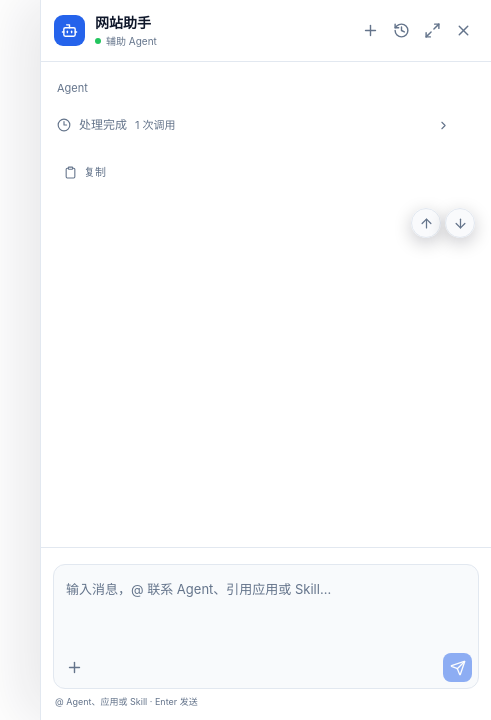
Scenario: AgentSidebar › 显示主 Agent 委派给子 Agent 的任务内容
The image size is (491, 720).
Click the button with aria-label "执行过程": x=103, y=124 [57, 103, 450, 147]
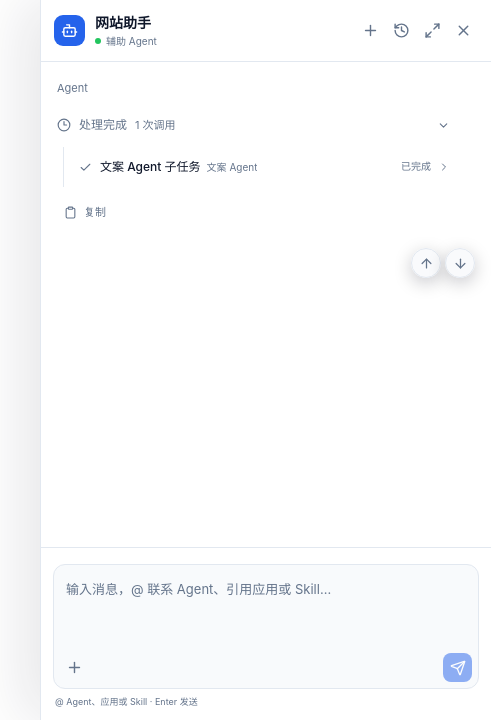
Click the heading "文案 Agent 子任务 文案 Agent 已完成": x=150, y=166 [78, 159, 450, 174]
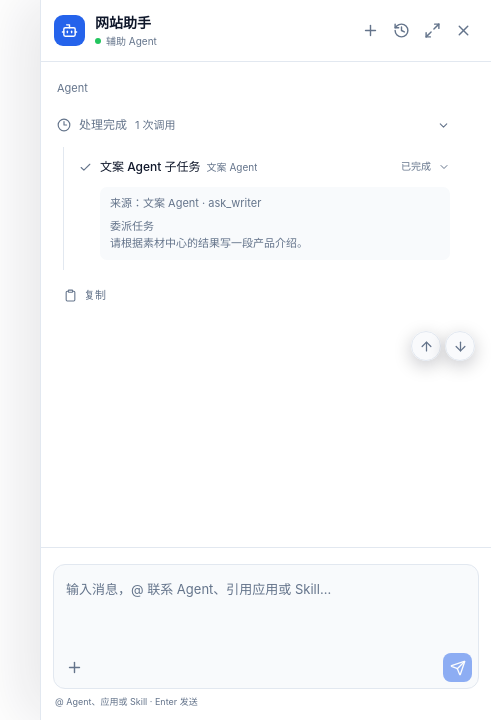
Result: the text "委派任务" is shown at [110, 219, 154, 233]
Result: the text "请根据素材中心的结果写一段产品介绍。" is shown at [110, 236, 308, 250]
